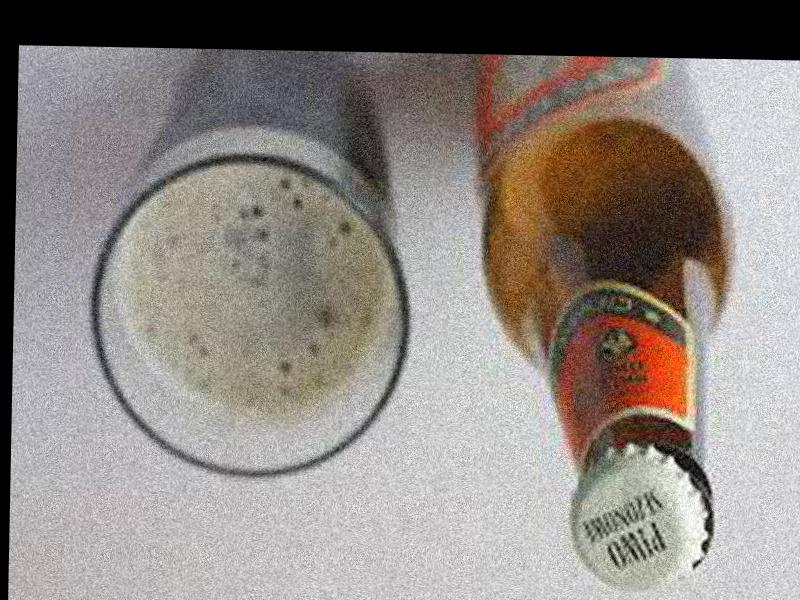Beer: (461, 53, 736, 593)
